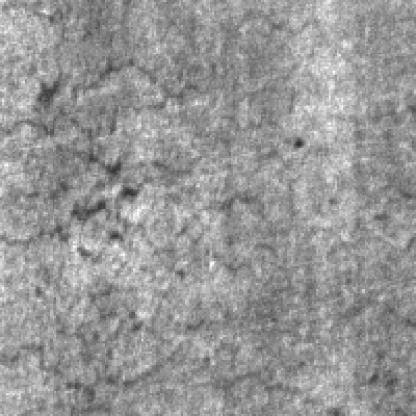crazing: (2, 48, 262, 252), (8, 291, 348, 410)
